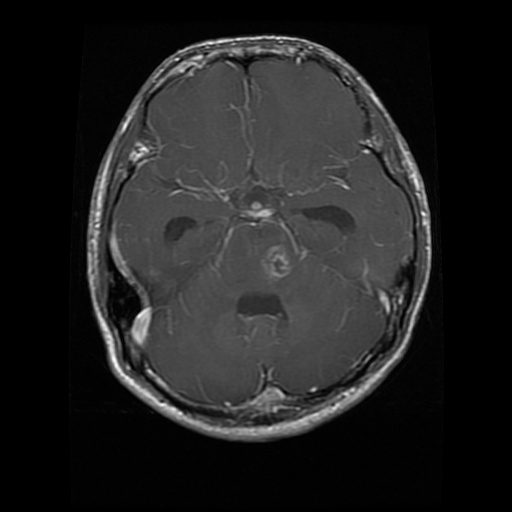glioma: (258, 241, 293, 280)
